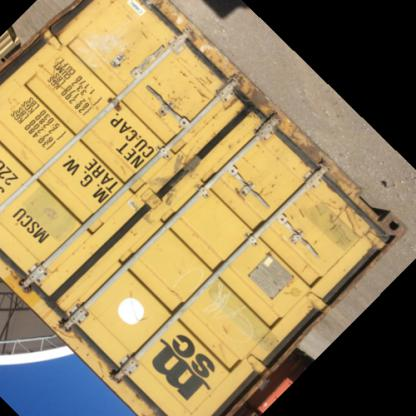Damage: (288, 183, 364, 247), (173, 54, 239, 114), (48, 319, 84, 359), (118, 12, 152, 44), (2, 262, 34, 294), (123, 291, 149, 329), (258, 138, 288, 166), (280, 272, 300, 304), (84, 87, 104, 116), (256, 330, 280, 354), (258, 176, 280, 202), (230, 183, 250, 205), (146, 72, 164, 93), (97, 355, 109, 383), (30, 58, 50, 74), (240, 162, 260, 176), (218, 325, 233, 339), (262, 250, 274, 264)
